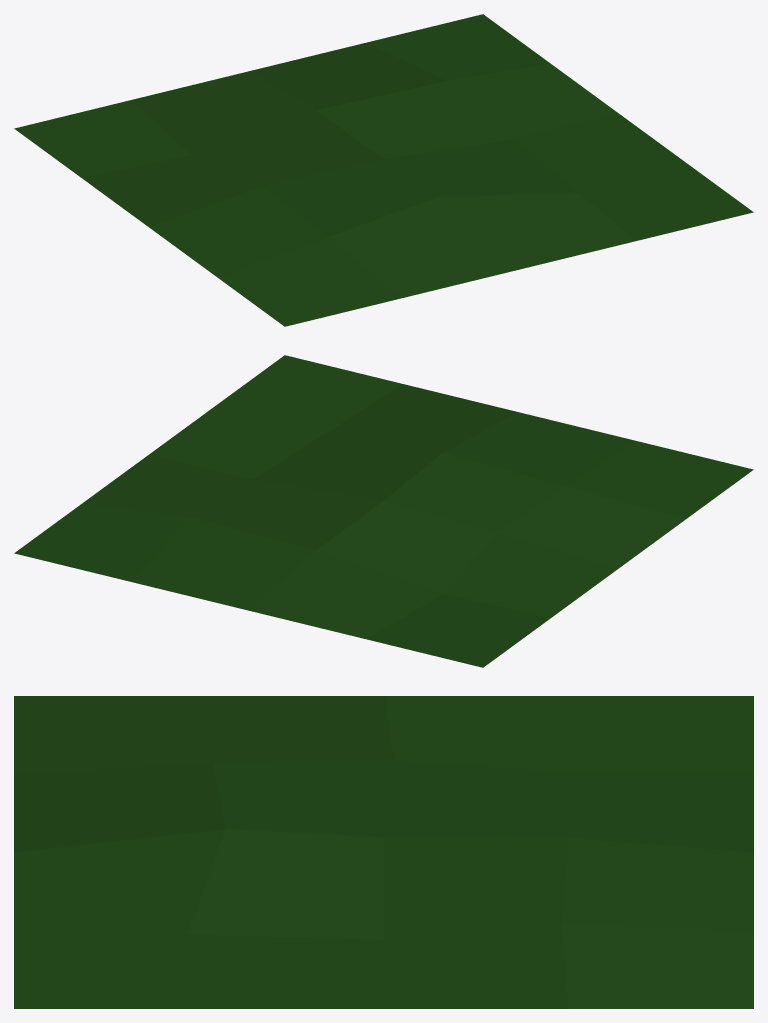
Rendered from SM_grass_ground_01.fbx.
The picture shows the model from 3 angles, top to bottom: view 1: azimuth 30°, elevation 25°; view 2: azimuth 150°, elevation 25°; view 3: azimuth 270°, elevation 25°; orthographic projection. The views are drawn at different scales.
Visible parts, largest first — view 1: grass_ground_01; view 2: grass_ground_01; view 3: grass_ground_01.
Part boxes in pixels (x1,y1,x2,y2): grass_ground_01: [14, 14, 753, 326]; grass_ground_01: [14, 355, 753, 667]; grass_ground_01: [14, 696, 753, 1008].
Size of the model in its own units: 300 by 11.54 by 300.
